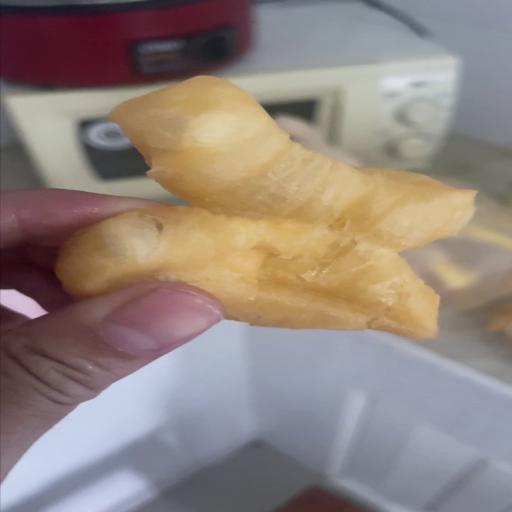street_golden_good: (56, 80, 476, 340)
